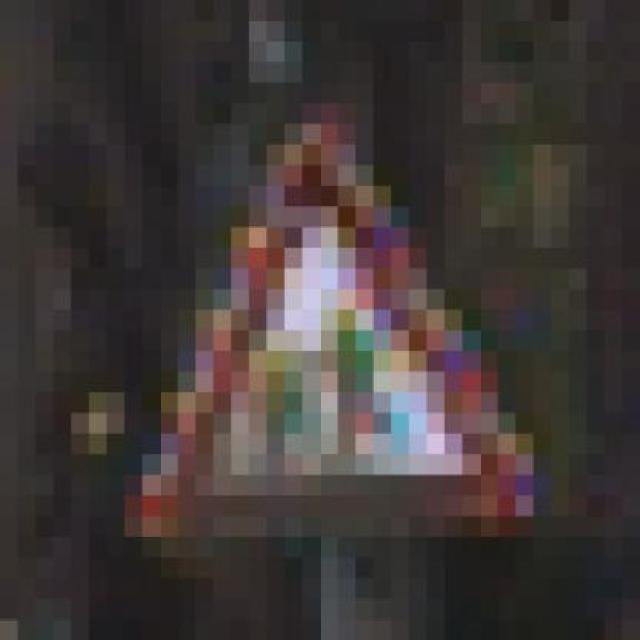Beware of children: (67, 116, 565, 530)
